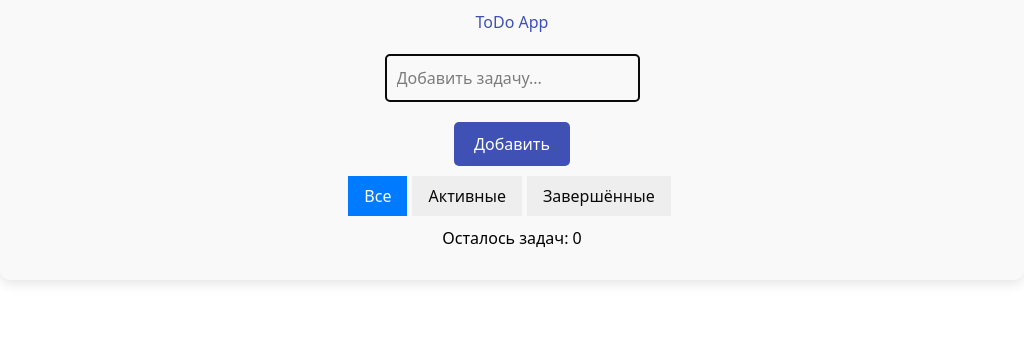
Test: ToDo App › добавление новой задачи
Вводим текст и добавляем задачу
Type "Новая задача" into the field with placeholder "Добавить задачу...". click: coordinates (512, 78)
box: [384, 54, 640, 102]
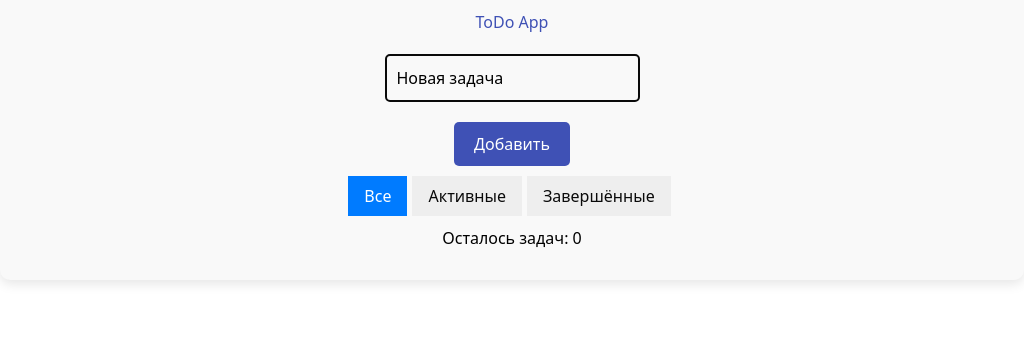
Click the button "Добавить". click: coordinates (512, 144)
box: [454, 122, 570, 166]
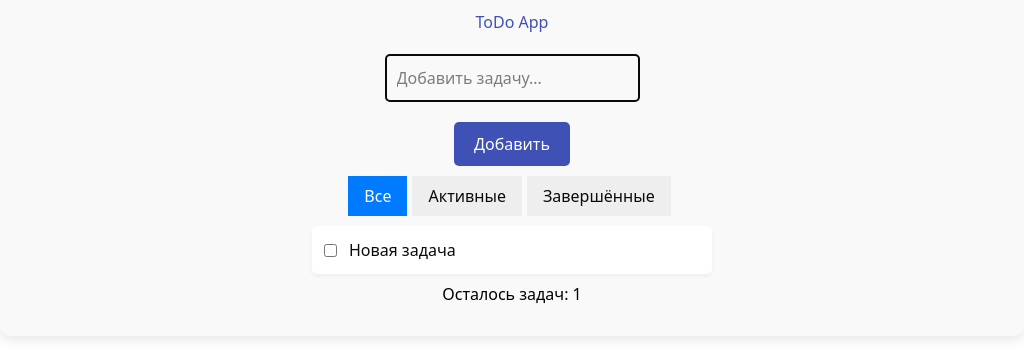
Result: the text "Новая задача" is shown at [349, 239, 456, 261]
